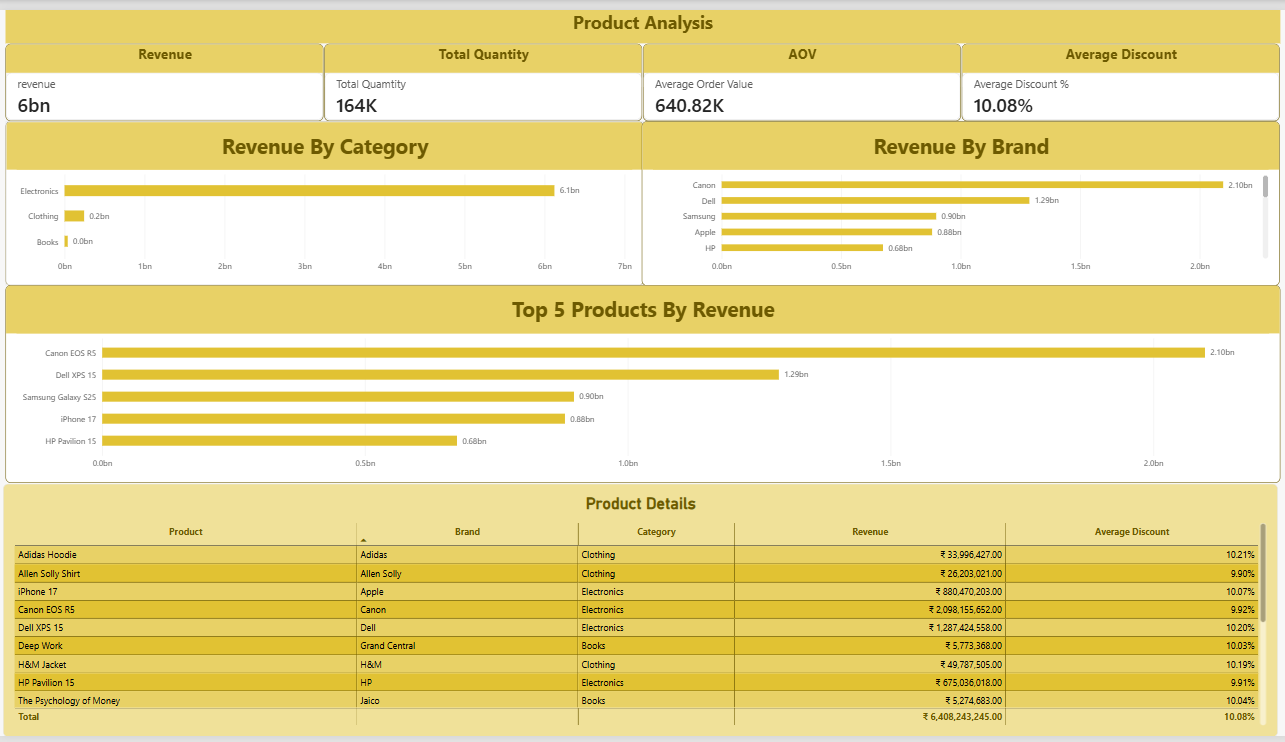

The page's visual inventory and layout, read from the dashboard file:
{"tool":"powerbi","page":{"name":"Product Analysis","canvas":[1920,1080],"ordinal":1},"visuals":[{"type":"textbox","box":[10.3,0,1895.7,49.4],"z":0},{"type":"cardVisual","title":"AOV","fields":{"Data":["_measures.Average Order Value"]},"box":[958.7,49.4,473.1,115.3],"z":0,"group":"g1"},{"type":"group","id":"g1","title":"Group 1","box":[10.3,49.4,1895.7,115.3],"z":1000},{"type":"cardVisual","title":"Average Discount","fields":{"Data":["_measures.Average Discount %"]},"box":[1432.9,49.4,473.1,115.3],"z":1000,"group":"g1"},{"type":"cardVisual","title":"Revenue","fields":{"Data":["_measures.revenue"]},"box":[10.3,49.4,473.1,115.3],"z":2000,"group":"g1"},{"type":"clusteredBarChart","title":"Revenue By Category","fields":{"Category":["DimProduct.Table.category_name"],"Y":["_measures.revenue"]},"box":[10.3,164.7,948.9,244.9],"z":2000},{"type":"cardVisual","title":"Total Quantity","fields":{"Data":["_measures.Total Quamtity"]},"box":[484.5,49.4,473.1,115.3],"z":3000,"group":"g1"},{"type":"clusteredBarChart","title":"Revenue By Brand","fields":{"Category":["DimProduct.brand"],"Y":["_measures.revenue"]},"box":[957.1,164.7,948.9,244.9],"z":3000},{"type":"clusteredBarChart","title":"Top 5 Products By Revenue","fields":{"Category":["DimProduct.product_name"],"Y":["_measures.revenue"]},"box":[10.3,409.6,1895.7,294.3],"z":4000},{"type":"tableEx","title":"Product Details","fields":{"Values":["DimProduct.product_name","DimProduct.brand","DimProduct.Table.category_name","_measures.revenue","_measures.Average Discount %"]},"box":[8.2,703.9,1895.7,376.7],"z":5000}]}

Visuals, with their boxes in screenshot pixels (x1, y1, x2, y2), scaled from the page's 1920x1080 canvas onto the 1285x742 screenshot:
textbox: (7, 0, 1276, 34)
"AOV" cardVisual: (642, 34, 958, 113)
"Group 1" group: (7, 34, 1276, 113)
"Average Discount" cardVisual: (959, 34, 1276, 113)
"Revenue" cardVisual: (7, 34, 324, 113)
"Revenue By Category" clusteredBarChart: (7, 113, 642, 281)
"Total Quantity" cardVisual: (324, 34, 641, 113)
"Revenue By Brand" clusteredBarChart: (641, 113, 1276, 281)
"Top 5 Products By Revenue" clusteredBarChart: (7, 281, 1276, 484)
"Product Details" tableEx: (5, 484, 1274, 741)
